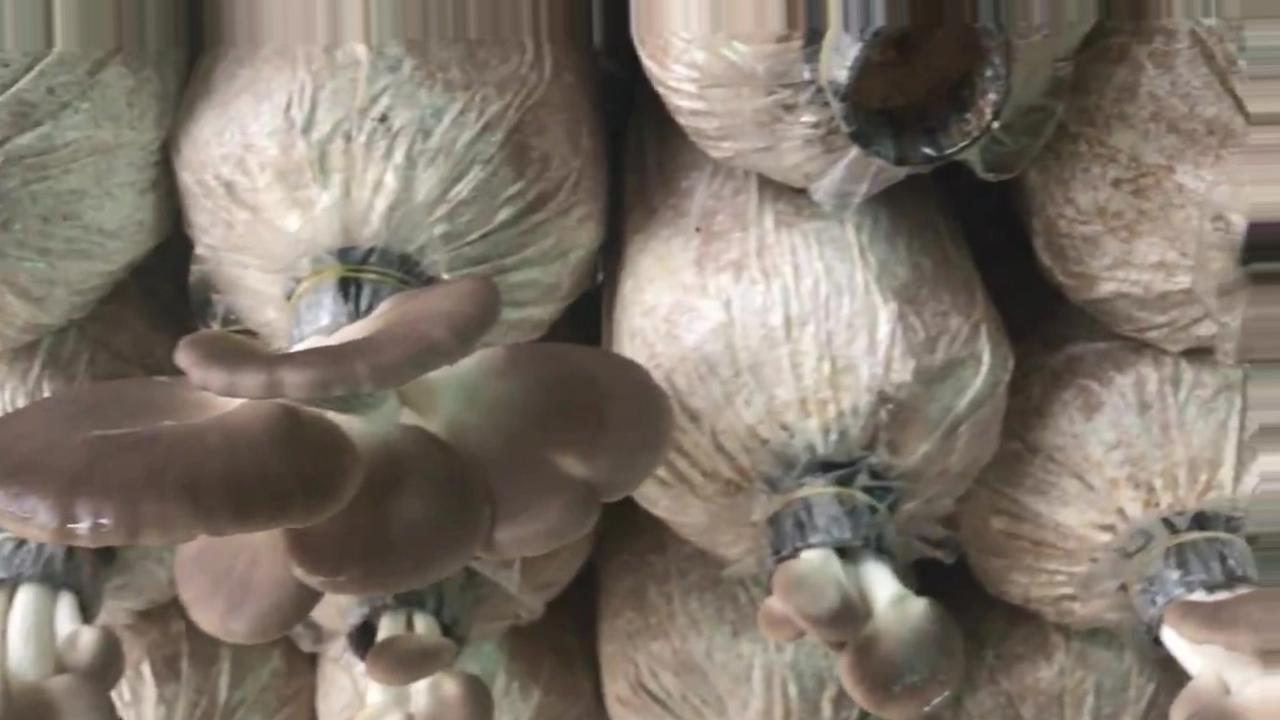nam: (1, 259, 675, 649), (756, 466, 973, 720), (2, 535, 129, 720), (1163, 518, 1278, 720), (344, 571, 493, 720)
